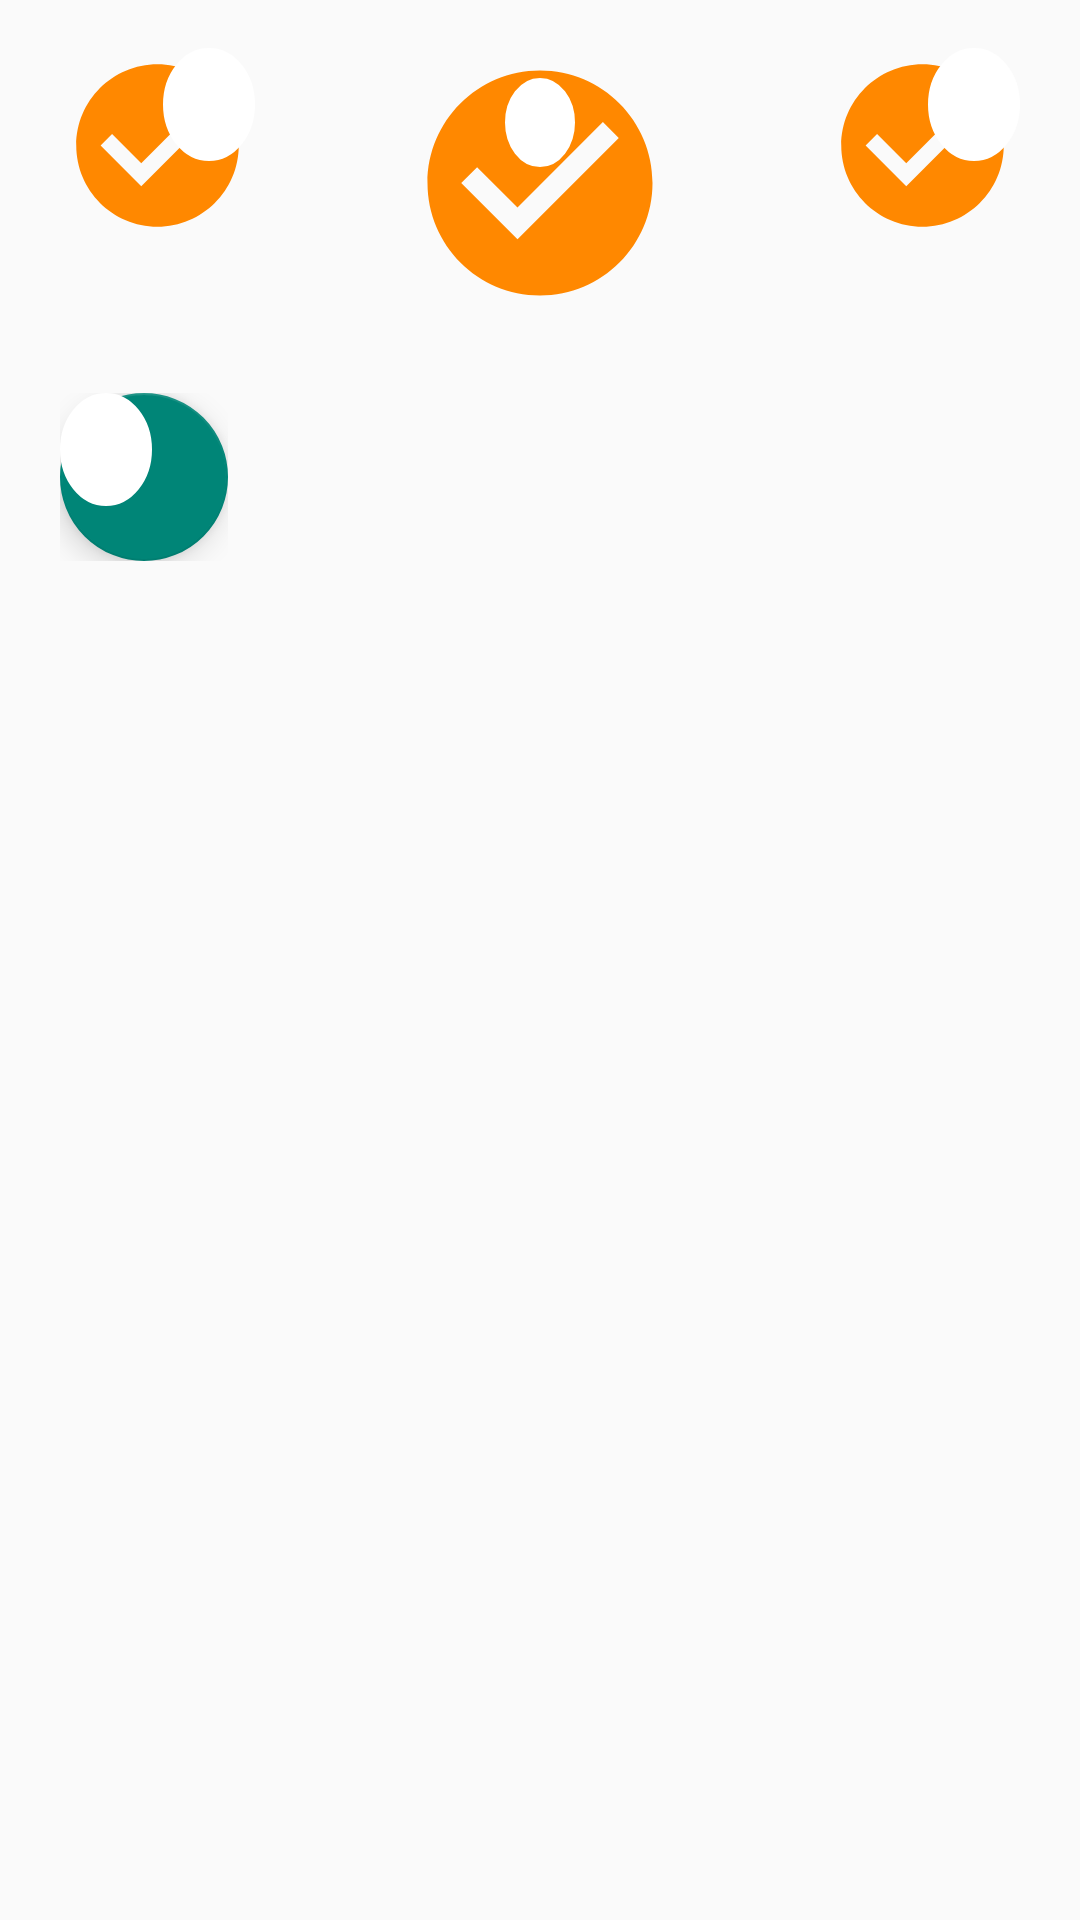

Named icons in this screenshot (1080 × 1920) and their centers, (x,y):
check circle: (157,145), (922,145), (540,183)
